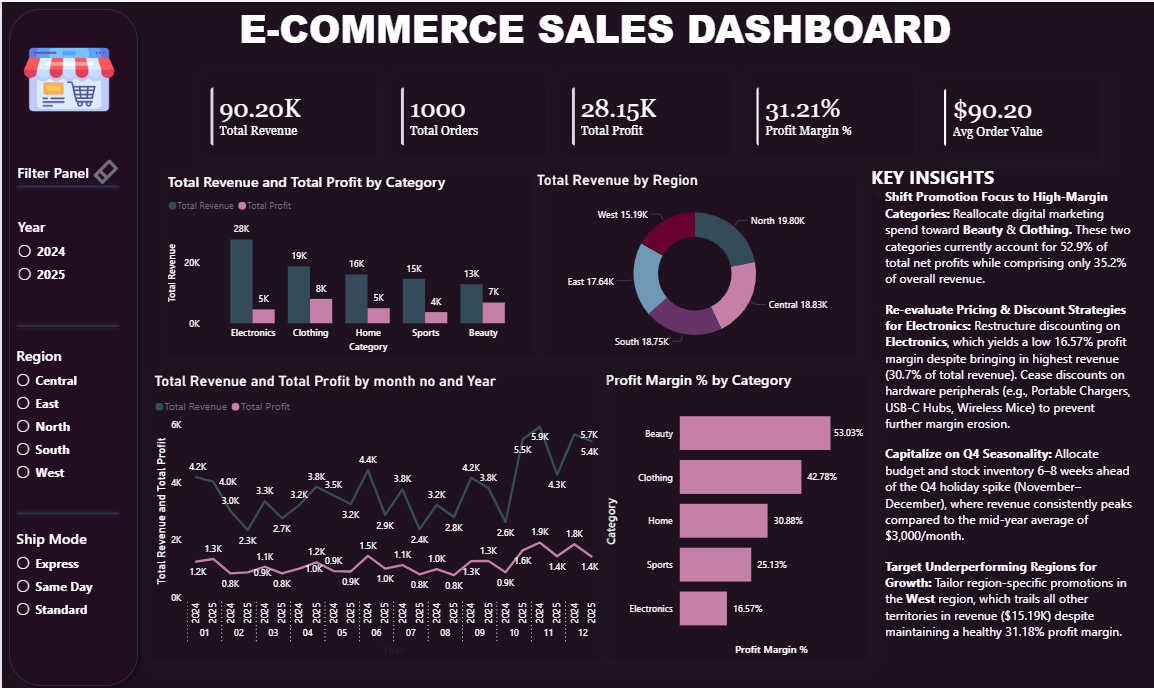

The dashboard page shown, as its layout file describes it:
{"tool":"powerbi","page":{"name":"Page 1","canvas":[1500,900],"ordinal":0},"visuals":[{"type":"cardVisual","fields":{"Data":["All Measures.Total Revenue"]},"box":[253.3,93.3,233.3,110],"z":0},{"type":"cardVisual","fields":{"Data":["All Measures.Total Orders"]},"box":[501.7,93.3,206.7,110],"z":1000},{"type":"shape","title":"E-COMMERCE SALES DASHBOARD","box":[123.1,0,1299.2,82.1],"z":2000},{"type":"cardVisual","fields":{"Data":["All Measures.Total Profit"]},"box":[725,93.3,226.7,110],"z":3000},{"type":"cardVisual","fields":{"Data":["All Measures.Progit Margin %"]},"box":[965,93.3,223.3,110],"z":4000},{"type":"shape","box":[0,0,186.2,900],"z":5000},{"type":"listSlicer","fields":{"Values":["Date table.Year"]},"box":[16,280,158,120],"z":6000},{"type":"listSlicer","fields":{"Values":["E-Commerce Orders.Ship Mode"]},"box":[14,686,148,134],"z":7000},{"type":"listSlicer","fields":{"Values":["E-Commerce Orders.Region"]},"box":[14,448,158,186],"z":8000},{"type":"clusteredColumnChart","fields":{"Category":["E-Commerce Orders.Category"],"Y":["All Measures.Total Revenue","All Measures.Total Profit"]},"box":[211,220.8,480.6,240.3],"z":9000},{"type":"donutChart","fields":{"Y":["All Measures.Total Revenue"],"Category":["E-Commerce Orders.Region"]},"box":[692.5,220.8,420.8,241.5],"z":10000},{"type":"barChart","fields":{"Category":["E-Commerce Orders.Category"],"Y":["All Measures.Profit Margin %"]},"box":[781.1,479.2,345.3,377.4],"z":11000},{"type":"cardVisual","fields":{"Data":["All Measures.Avg Order Value"]},"box":[1209.4,95.7,222.7,109.4],"z":12000},{"type":"lineChart","fields":{"Y":["All Measures.Total Revenue","All Measures.Total Profit"],"Category":["Date table.month no","Date table.Year"]},"box":[194,482,588,374],"z":13000},{"type":"image","box":[0,42,174,120],"z":14000},{"type":"textbox","box":[1126.4,205.7,352.8,673.6],"z":15000},{"type":"shape","box":[12,202,148,78],"z":16000},{"type":"shape","box":[12,382,148,78],"z":17000},{"type":"shape","box":[12,628,148,78],"z":18000},{"type":"actionButton","box":[116,202,58,40],"z":19000}]}

Visuals, with their boxes in screenshot pixels (x1, y1, x2, y2), scaled from the page's 1500x900 canvas onto the 1154x688 screenshot:
cardVisual - All Measures.Total Revenue: select_region(195, 71, 374, 155)
cardVisual - All Measures.Total Orders: select_region(386, 71, 545, 155)
"E-COMMERCE SALES DASHBOARD" shape: select_region(95, 0, 1094, 63)
cardVisual - All Measures.Total Profit: select_region(558, 71, 732, 155)
cardVisual - All Measures.Progit Margin %: select_region(742, 71, 914, 155)
shape: select_region(0, 0, 143, 687)
listSlicer - Date table.Year: select_region(12, 214, 134, 306)
listSlicer - E-Commerce Orders.Ship Mode: select_region(11, 524, 125, 627)
listSlicer - E-Commerce Orders.Region: select_region(11, 342, 132, 485)
clusteredColumnChart - E-Commerce Orders.Category x All Measures.Total Revenue: select_region(162, 169, 532, 352)
donutChart - All Measures.Total Revenue x E-Commerce Orders.Region: select_region(533, 169, 856, 353)
barChart - E-Commerce Orders.Category x All Measures.Profit Margin %: select_region(601, 366, 867, 655)
cardVisual - All Measures.Avg Order Value: select_region(930, 73, 1102, 157)
lineChart - All Measures.Total Revenue x All Measures.Total Profit: select_region(149, 368, 602, 654)
image: select_region(0, 32, 134, 124)
textbox: select_region(867, 157, 1138, 672)
shape: select_region(9, 154, 123, 214)
shape: select_region(9, 292, 123, 352)
shape: select_region(9, 480, 123, 540)
actionButton: select_region(89, 154, 134, 185)
